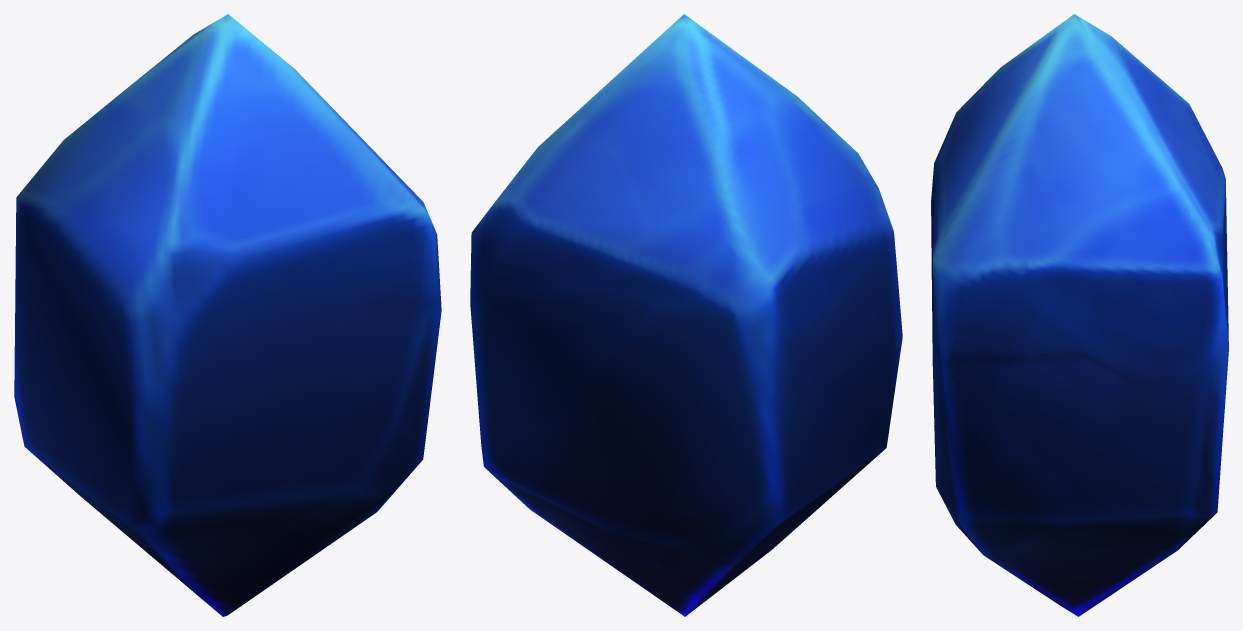
Rendered from SM_Gem_Sapphire_Piece_001.fbx.
3 views of the same model, side by side, from view 1: azimuth 30°, elevation 25°; view 2: azimuth 150°, elevation 25°; view 3: azimuth 270°, elevation 25° (orthographic).
Parts seen in each view (by area): view 1: SM_Gem_Sapphire_Piece_001; view 2: SM_Gem_Sapphire_Piece_001; view 3: SM_Gem_Sapphire_Piece_001.
Part boxes in pixels (<box>): SM_Gem_Sapphire_Piece_001: <box>14,14,441,616</box>; SM_Gem_Sapphire_Piece_001: <box>470,14,902,616</box>; SM_Gem_Sapphire_Piece_001: <box>931,14,1228,616</box>.
Bounding box in the file's own units: 10.52 × 20.06 × 8.96.
